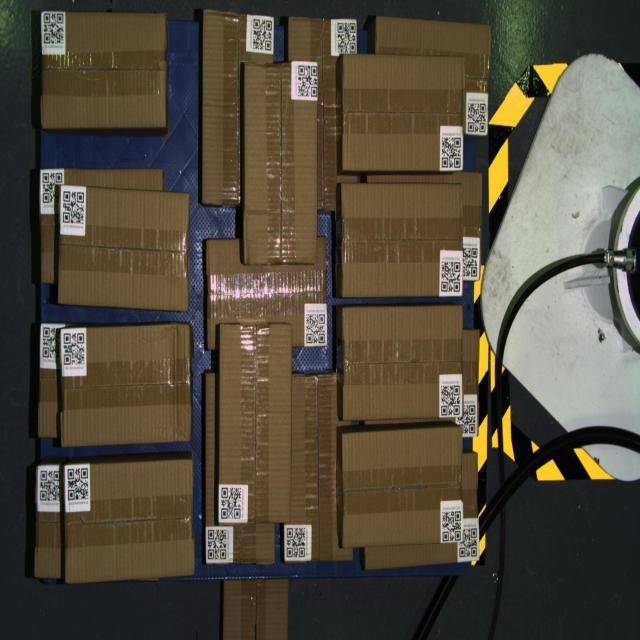box: (58, 184, 190, 311), (64, 459, 195, 585), (59, 324, 193, 447), (218, 323, 293, 525), (244, 62, 318, 265), (41, 11, 167, 128), (341, 427, 463, 547), (343, 54, 465, 170), (342, 305, 463, 420), (341, 183, 463, 297)
